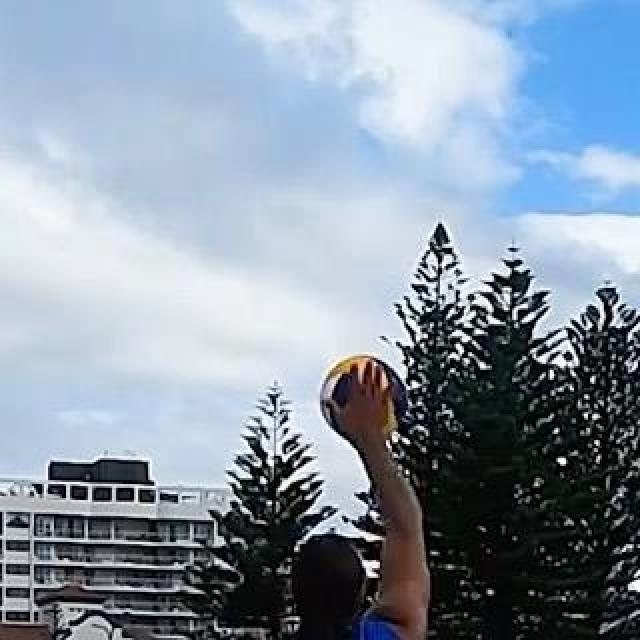volleyball: (319, 354, 409, 446)
